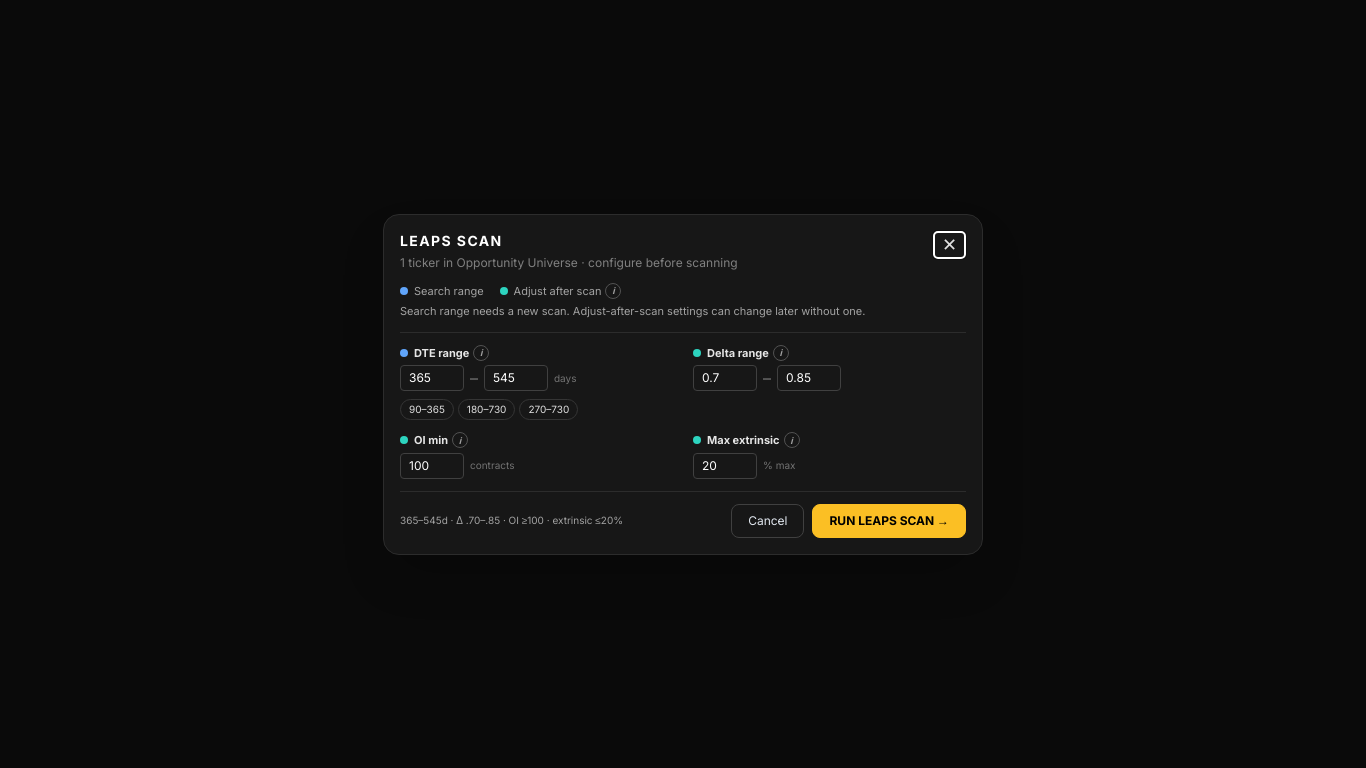
Test: LeapsScanModal compact layout › a DTE chip sets both ends and is highlighted for the matching range
Click the button "180–730" at (487, 410), box [458,399,515,420]
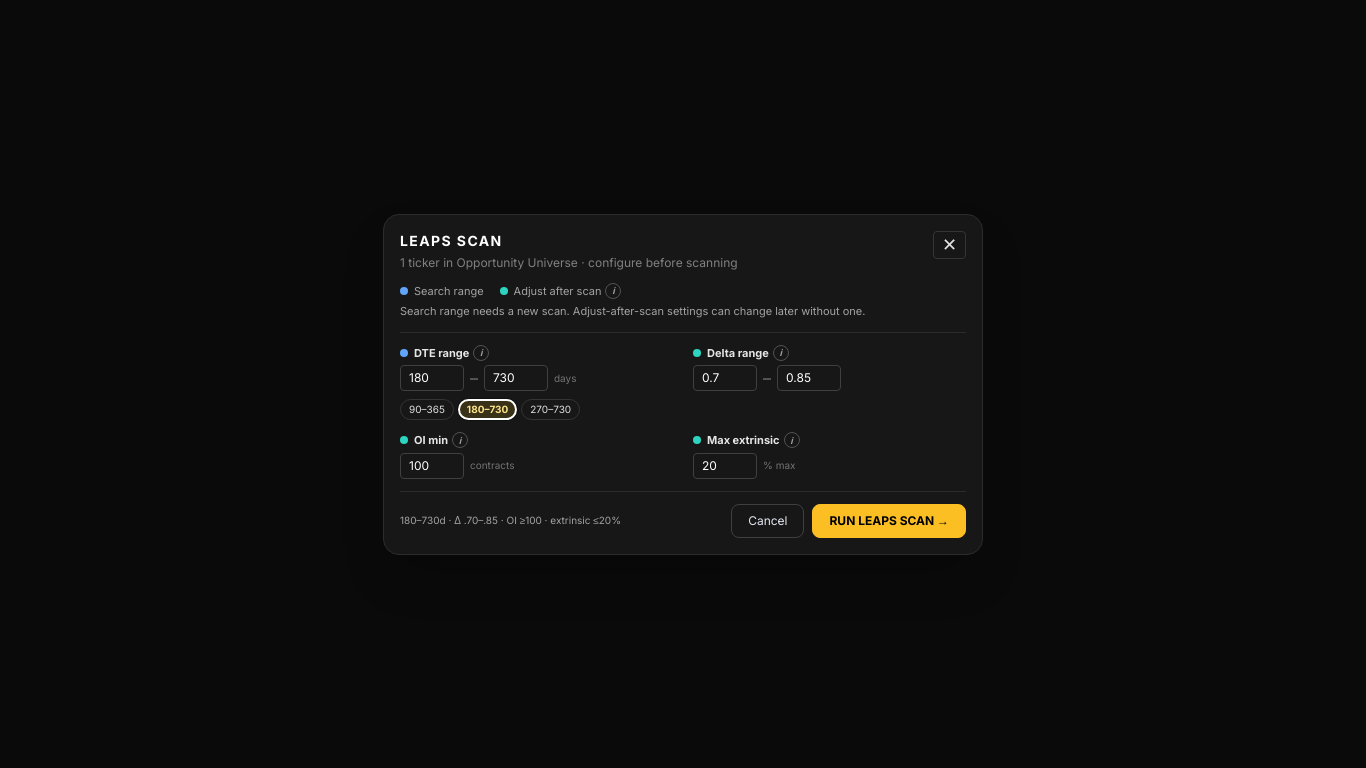
expect the field named "Min DTE" holds "180": met, box [400,365,464,391]
expect the field named "Max DTE" holds "730": met, box [484,365,548,391]
